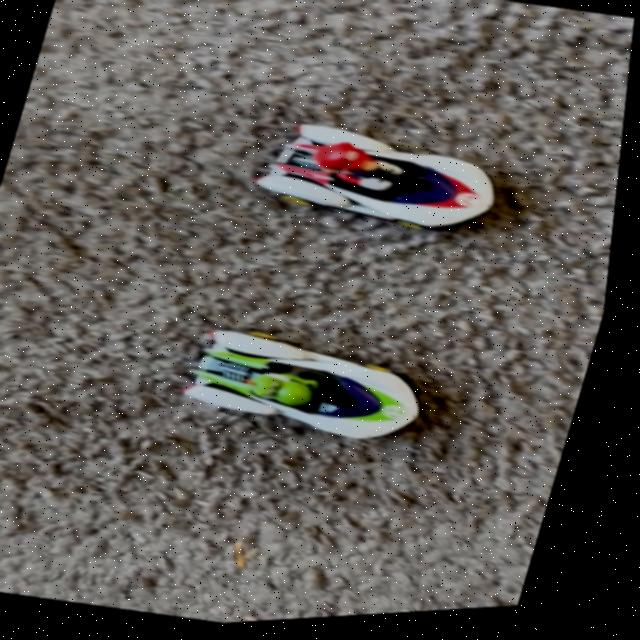mario: (243, 102, 541, 266)
yoshi: (171, 306, 469, 472)
